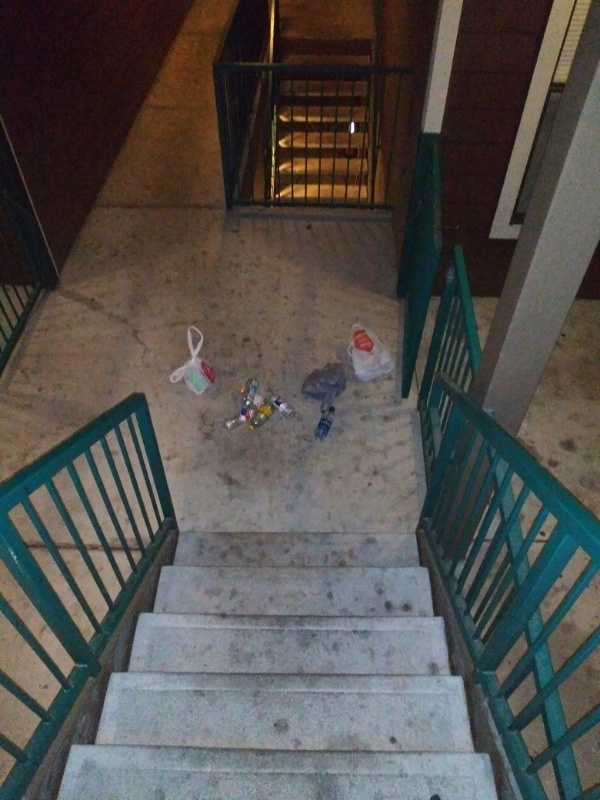bottle: (264, 390, 299, 420), (312, 405, 339, 443), (221, 406, 260, 431), (245, 402, 277, 432), (240, 378, 261, 415)
